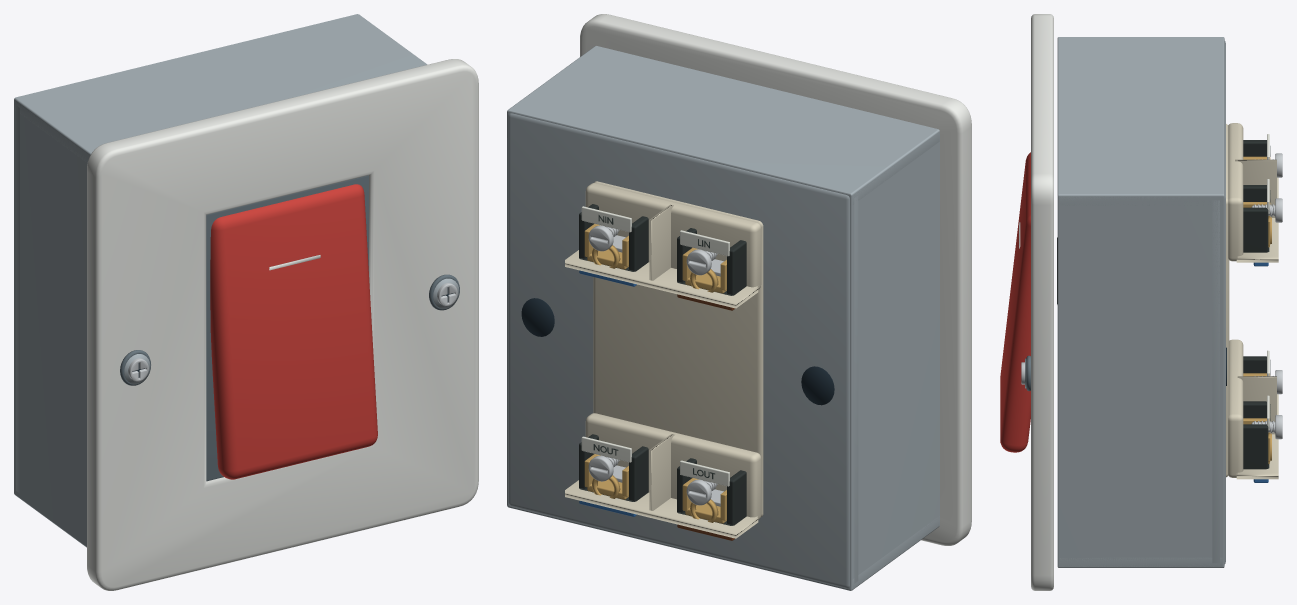
File: isolator_red-isolator-rocker.glb
The picture shows the model from 3 angles, left to right: view 1: azimuth 30°, elevation 25°; view 2: azimuth 150°, elevation 25°; view 3: azimuth 270°, elevation 25°; orthographic projection. The views are drawn at different scales.
Parts seen in each view (by area): view 1: part:cover, part:body · Original 2a8198d3, motion:rocker, part:actuator, detail:faceplate-fixing · Detail zinc plated fixing, part:cover · Original 0905ee26; view 2: part:body · Original 2a8198d3, part:terminals · Original 5a609f27, part:cover, part:body · Original a463fd81, detail:terminal-clamp:LIN · Detail moulded engineering polym, detail:terminal-clamp:NIN · Detail moulded engineering polym, detail:terminal-clamp:NOUT · Detail moulded engineering poly, detail:terminal-clamp:LOUT · Detail moulded engineering poly, detail:terminal-clamp:LOUT · Detail machined brass, detail:terminal-clamp:NOUT · Detail machined brass, detail:terminal-clamp:LIN · Detail machined brass, detail:terminal-clamp:NIN · Detail machined brass (+8 smaller); view 3: part:body · Original 2a8198d3, part:cover, part:terminals · Original 5a609f27, motion:rocker, detail:terminal-clamp:NOUT · Detail moulded engineering poly, detail:terminal-clamp:NIN · Detail moulded engineering polym, detail:terminal-clamp:LOUT · Detail moulded engineering poly, detail:terminal-clamp:LIN · Detail moulded engineering polym.
Boxes of the visible parts, x1,y1,x2,y2 form: part:cover: (87,59,478,590); part:body · Original 2a8198d3: (14,14,427,547); motion:rocker: (210,184,377,479); part:actuator: (206,175,368,481); detail:faceplate-fixing · Detail zinc plated fixing: (128,283,457,381); part:cover · Original 0905ee26: (120,274,459,385); part:body · Original 2a8198d3: (507,46,939,590); part:terminals · Original 5a609f27: (565,181,763,538); part:cover: (580,14,971,545); part:body · Original a463fd81: (521,298,834,405); detail:terminal-clamp:LIN · Detail moulded engineering polym: (677,228,746,295); detail:terminal-clamp:NIN · Detail moulded engineering polym: (579,204,648,271); detail:terminal-clamp:NOUT · Detail moulded engineering poly: (579,434,648,501); detail:terminal-clamp:LOUT · Detail moulded engineering poly: (677,458,746,525); detail:terminal-clamp:LOUT · Detail machined brass: (682,478,726,523); detail:terminal-clamp:NOUT · Detail machined brass: (584,454,628,499); detail:terminal-clamp:LIN · Detail machined brass: (682,247,726,293); detail:terminal-clamp:NIN · Detail machined brass: (584,223,628,269); part:body · Original 2a8198d3: (1057,37,1225,567); part:cover: (1031,14,1053,590); part:terminals · Original 5a609f27: (1226,123,1278,479); motion:rocker: (1000,152,1030,452); detail:terminal-clamp:NOUT · Detail moulded engineering poly: (1243,401,1269,469); detail:terminal-clamp:NIN · Detail moulded engineering polym: (1243,185,1269,252); detail:terminal-clamp:LOUT · Detail moulded engineering poly: (1243,356,1266,373); detail:terminal-clamp:LIN · Detail moulded engineering polym: (1243,140,1266,156).
Size of the model in its own units: 0.8918 by 0.9813 by 0.6055.
